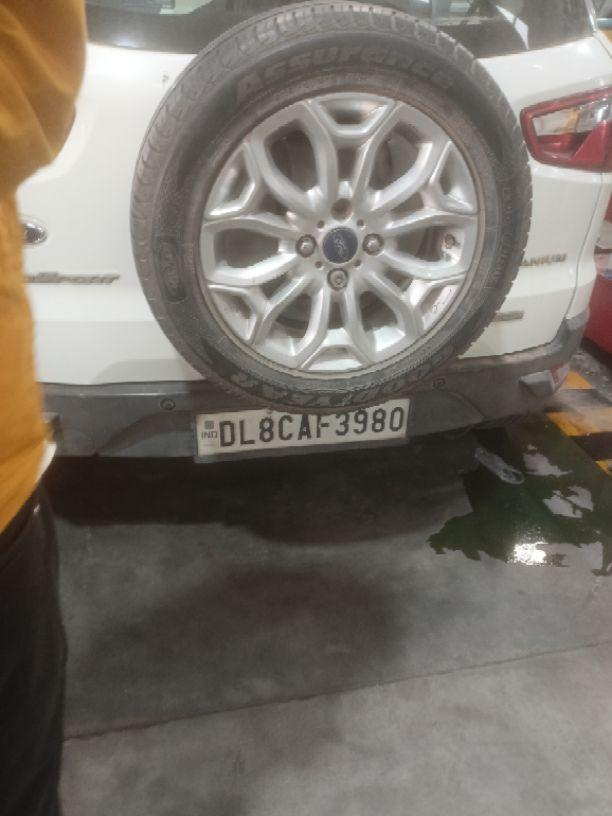license_plate: (191, 396, 412, 463)
